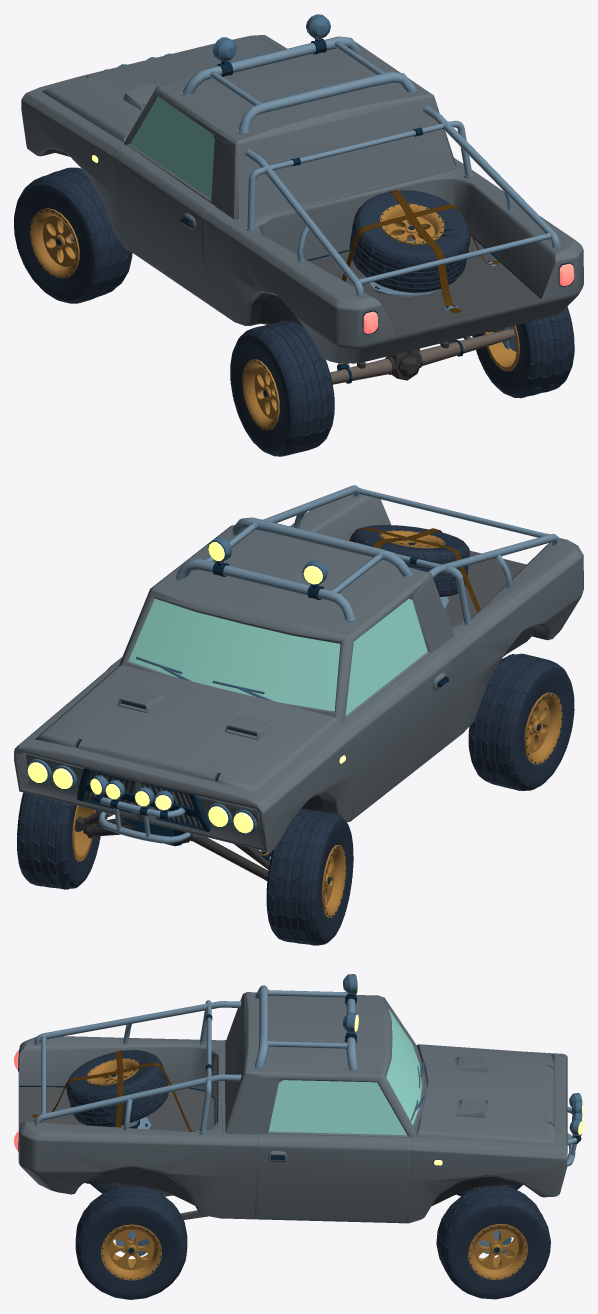
The model's file is car.glb.
3 views of the same model, one above another, from view 1: azimuth 30°, elevation 25°; view 2: azimuth 150°, elevation 25°; view 3: azimuth 270°, elevation 25° (orthographic). The views are drawn at different scales.
Parts seen in each view (by area): view 1: polySurface1902, object 17, polySurface1038, object 16, object 14, object 19, object 15, object 13, object 18, object 21, polySurface2256; view 2: polySurface1902, object 16, object 17, polySurface1038, polySurface1035, object 14, polySurface1896, object 18, object 21, object 13, object 15; view 3: polySurface1902, object 17, polySurface1035, object 16, object 14, object 13, object 18, object 15.
Part boxes in pixels (x1=…): polySurface1902: x1=21, y1=35, x2=583, y2=429; object 17: x1=230, y1=190, x2=574, y2=456; polySurface1038: x1=14, y1=167, x2=132, y2=303; object 16: x1=130, y1=97, x2=214, y2=198; object 14: x1=242, y1=203, x2=519, y2=430; object 19: x1=330, y1=328, x2=515, y2=384; object 15: x1=341, y1=189, x2=500, y2=313; object 13: x1=41, y1=148, x2=304, y2=328; object 18: x1=104, y1=14, x2=510, y2=349; object 21: x1=357, y1=341, x2=449, y2=380; polySurface2256: x1=363, y1=263, x2=574, y2=333; polySurface1902: x1=14, y1=485, x2=583, y2=860; object 16: x1=128, y1=598, x2=427, y2=715; object 17: x1=121, y1=525, x2=574, y2=790; polySurface1038: x1=266, y1=809, x2=353, y2=945; polySurface1035: x1=17, y1=792, x2=100, y2=889; object 14: x1=99, y1=530, x2=562, y2=855; polySurface1896: x1=27, y1=542, x2=322, y2=833; object 18: x1=26, y1=537, x2=327, y2=834; object 21: x1=83, y1=812, x2=271, y2=880; object 13: x1=49, y1=625, x2=547, y2=828; object 15: x1=349, y1=527, x2=480, y2=612; polySurface1902: x1=18, y1=985, x2=581, y2=1280; object 17: x1=66, y1=1050, x2=187, y2=1299; polySurface1035: x1=436, y1=1185, x2=550, y2=1299; object 16: x1=268, y1=1009, x2=421, y2=1135; object 14: x1=86, y1=1058, x2=161, y2=1280; object 13: x1=85, y1=1159, x2=523, y2=1214; object 18: x1=138, y1=974, x2=582, y2=1255; object 15: x1=32, y1=1050, x2=192, y2=1131.
Size of the model in its own units: 5.14 by 4.77 by 9.85.
